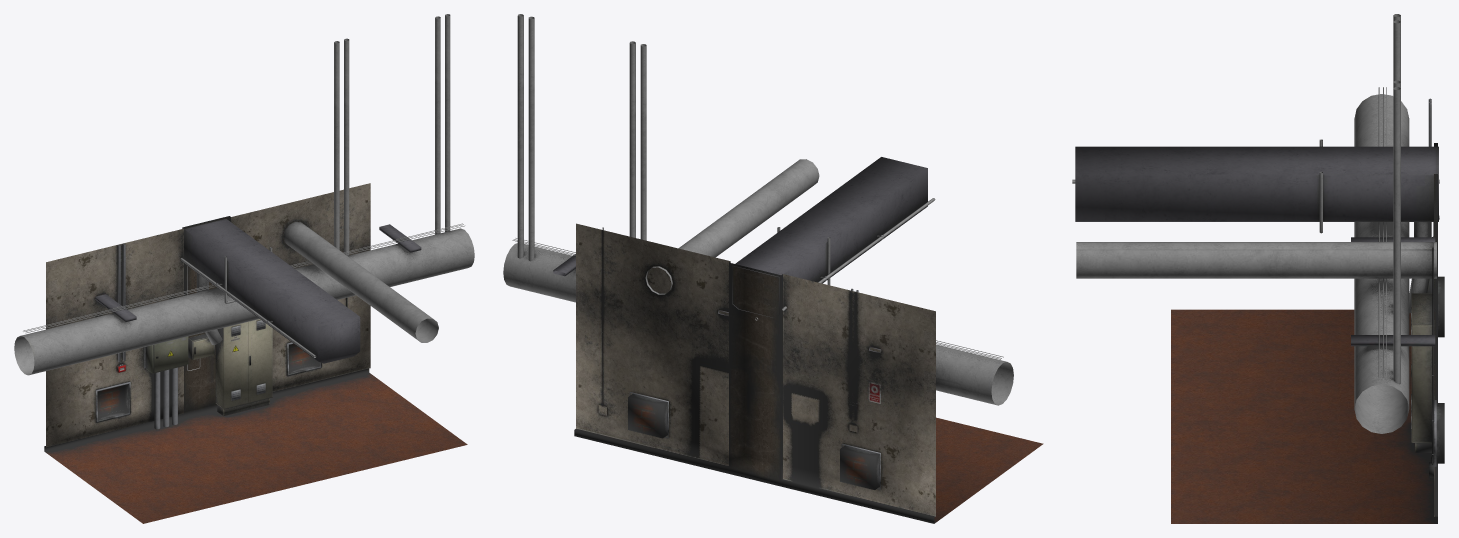
The model's file is Envi1.fbx.
3 views of the same model, side by side, from view 1: azimuth 30°, elevation 25°; view 2: azimuth 150°, elevation 25°; view 3: azimuth 270°, elevation 25° (orthographic). The views are drawn at different scales.
Parts seen in each view (by area): view 1: pared; view 2: pared; view 3: pared.
Part boxes in pixels (left/top/right/bottom): pared: left=14, top=14, right=474, bottom=523; pared: left=503, top=14, right=1043, bottom=523; pared: left=1072, top=14, right=1444, bottom=523.
Size of the model in its own units: 17689 by 13550 by 9587.
